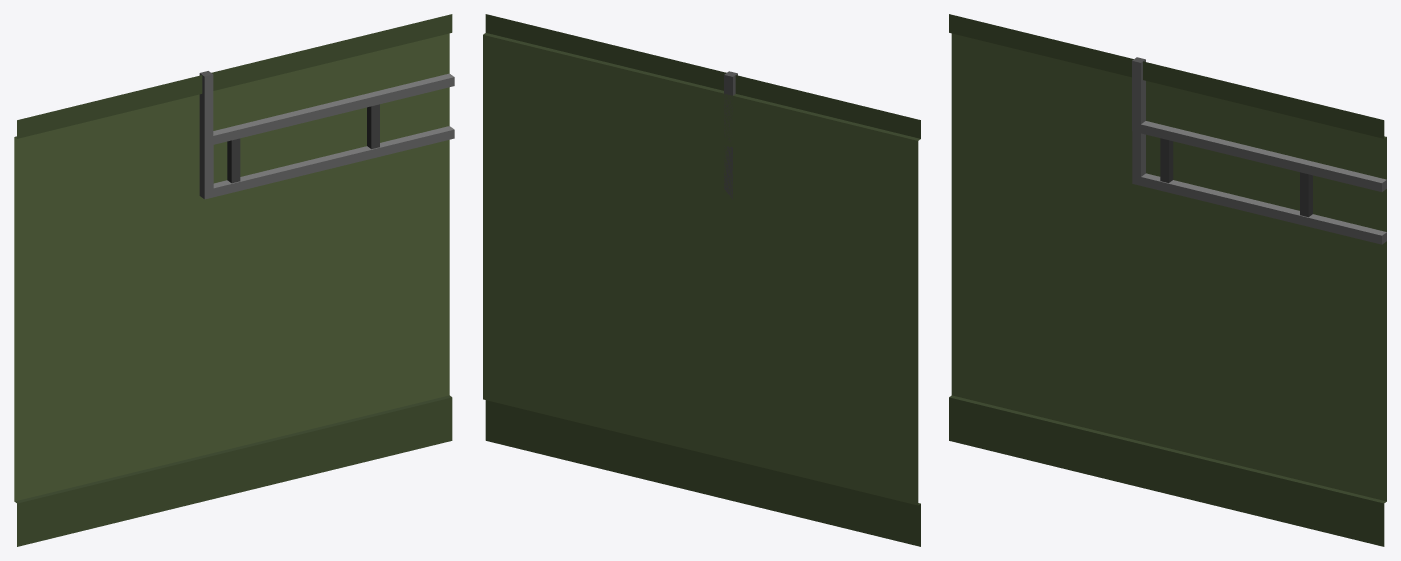
Rendered from AI_Env_Wall_Green_Electronics_Start.fbx.
The picture shows the model from 3 angles, left to right: view 1: azimuth 30°, elevation 25°; view 2: azimuth 150°, elevation 25°; view 3: azimuth 330°, elevation 25°; orthographic projection.
Visible parts, largest first — view 1: AI_Env_Wall_Green_Electronics_Start; view 2: AI_Env_Wall_Green_Electronics_Start; view 3: AI_Env_Wall_Green_Electronics_Start.
Part boxes in pixels (x1=…): AI_Env_Wall_Green_Electronics_Start: x1=14, y1=14, x2=454, y2=546; AI_Env_Wall_Green_Electronics_Start: x1=483, y1=14, x2=920, y2=546; AI_Env_Wall_Green_Electronics_Start: x1=949, y1=14, x2=1386, y2=546.
Bounding box in the file's own units: 5 × 4.69 × 0.0984.
